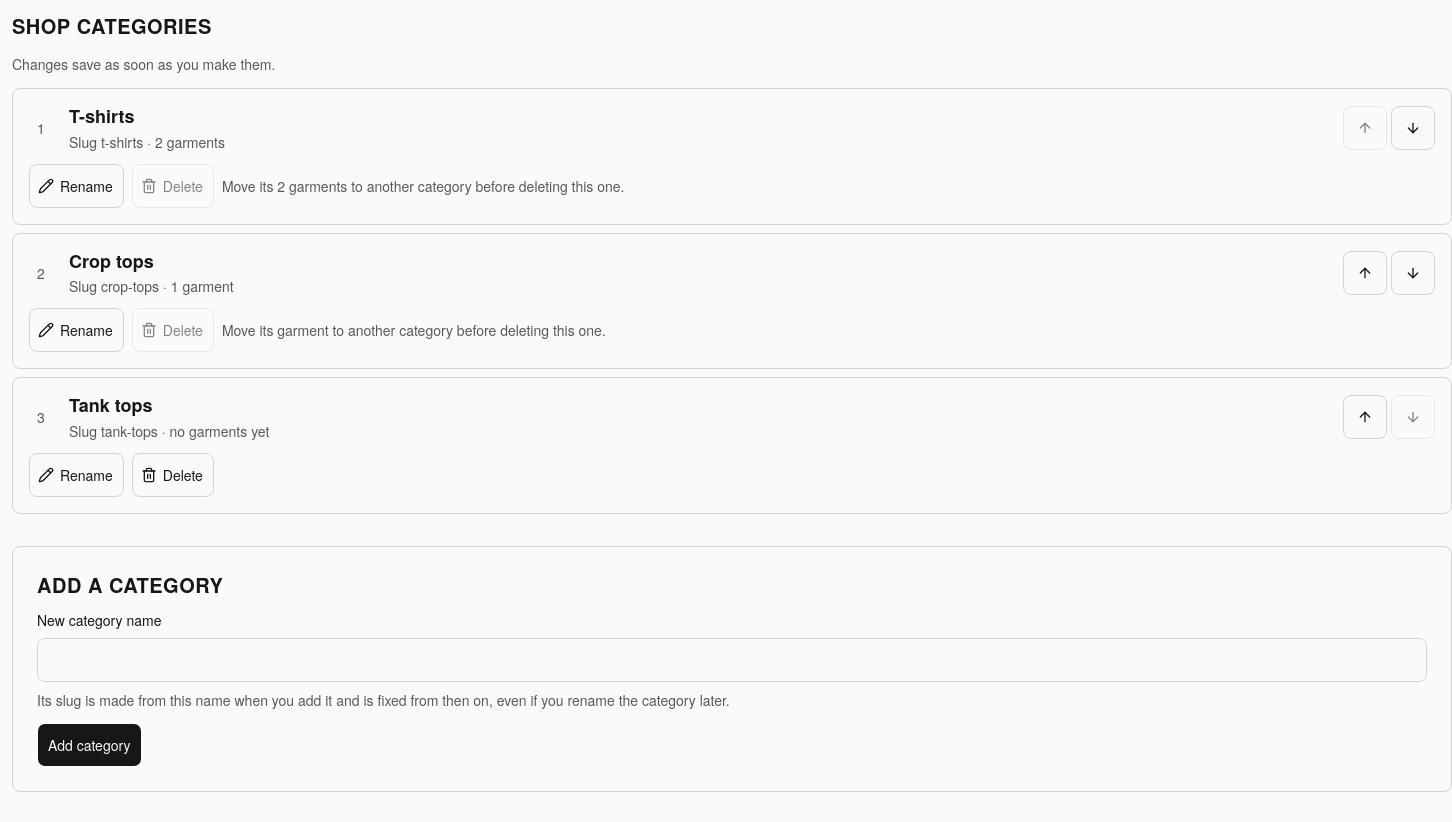
Test: CategoryManager › reordering › restores the order after a dropped connection without offering a reload
Click the button named "Move Crop tops down" at (1413, 273), box [1391,251,1435,295]
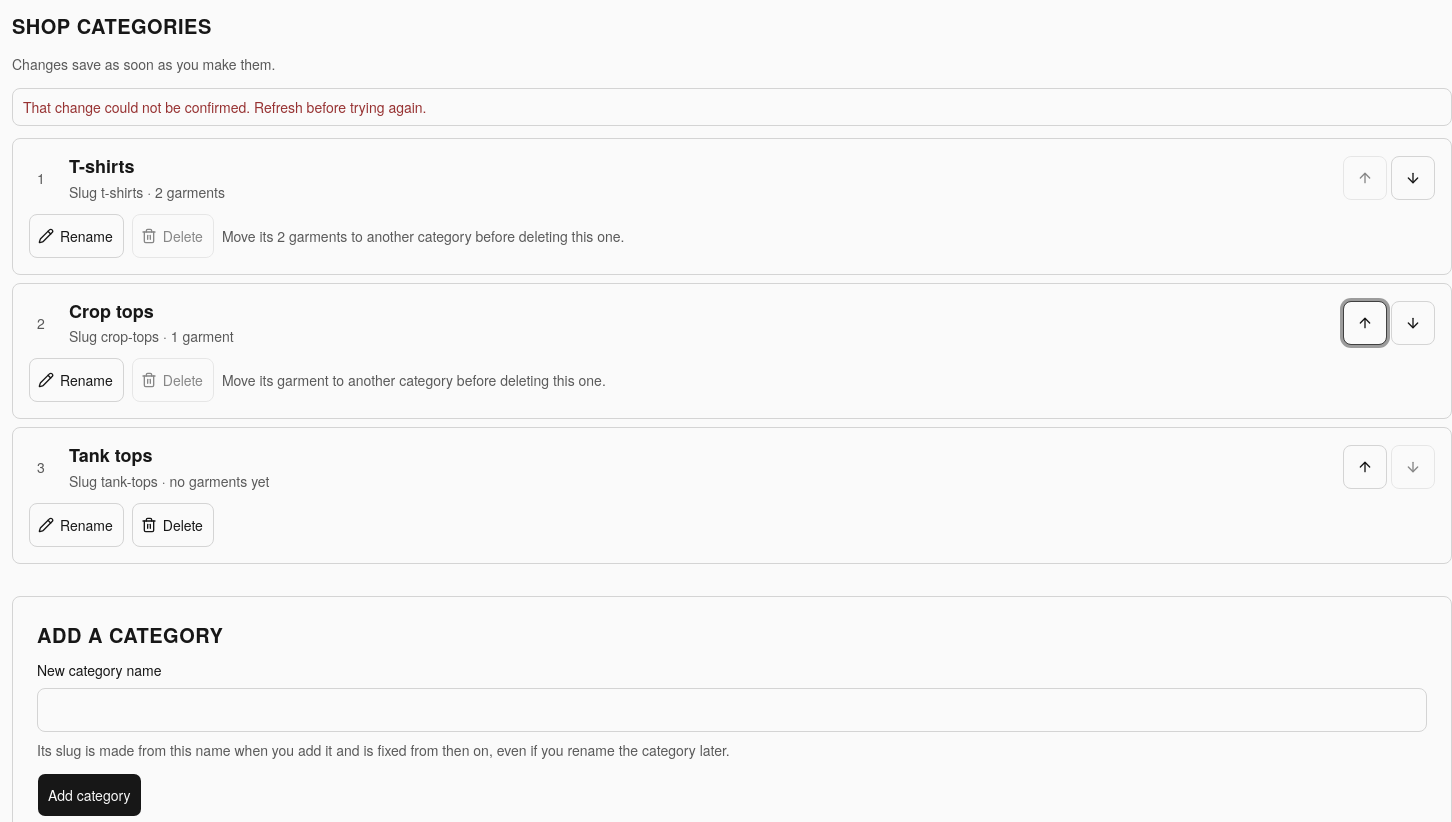
Expected: the message shows "could not be confirmed", [23,97,426,117]
